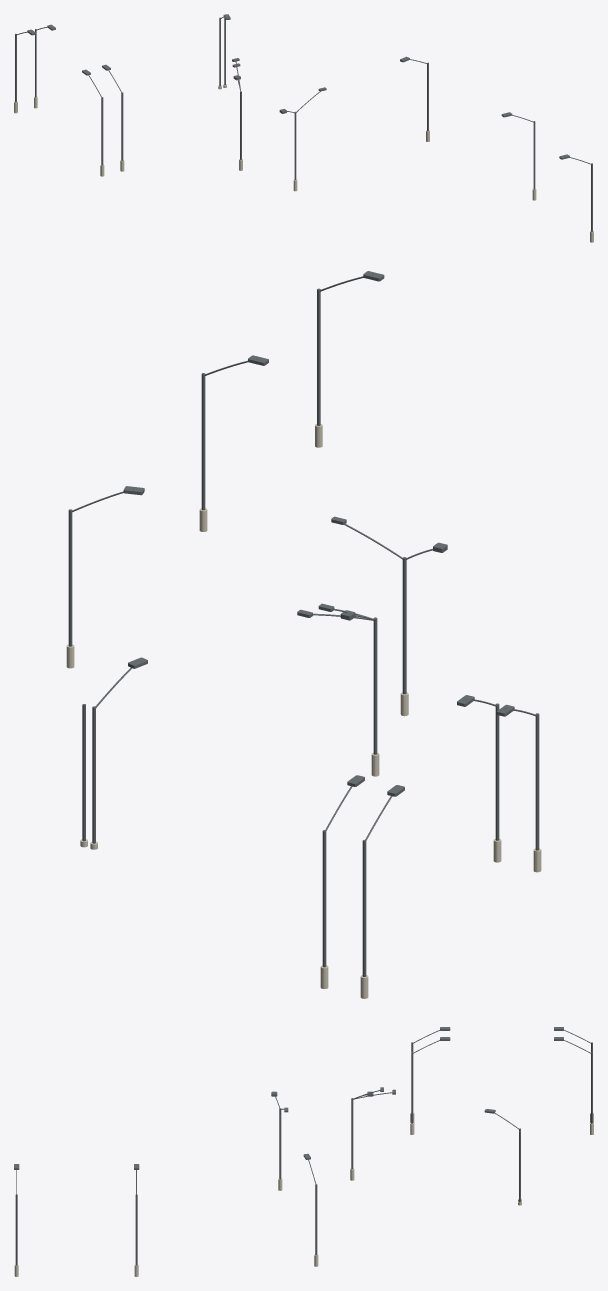
The picture shows the model from 3 angles, top to bottom: view 1: azimuth 30°, elevation 25°; view 2: azimuth 150°, elevation 25°; view 3: azimuth 270°, elevation 25°; orthographic projection. The views are drawn at different scales.
Visible parts, largest first — view 1: buildings_s_-4_-6_Dark_Metal, buildings_s_-4_-6_Warm_Limestone; view 2: buildings_s_-4_-6_Dark_Metal, buildings_s_-4_-6_Warm_Limestone; view 3: buildings_s_-4_-6_Dark_Metal, buildings_s_-4_-6_Warm_Limestone.
Part boxes in pixels (x1,y1,x2,y2): buildings_s_-4_-6_Dark_Metal: (15, 14, 592, 231); buildings_s_-4_-6_Warm_Limestone: (14, 84, 593, 242); buildings_s_-4_-6_Dark_Metal: (68, 271, 539, 976); buildings_s_-4_-6_Warm_Limestone: (66, 424, 541, 998); buildings_s_-4_-6_Dark_Metal: (14, 1027, 592, 1265); buildings_s_-4_-6_Warm_Limestone: (14, 1112, 593, 1276).
Bounding box in the file's own units: 60.79 × 17.75 × 96.79.
